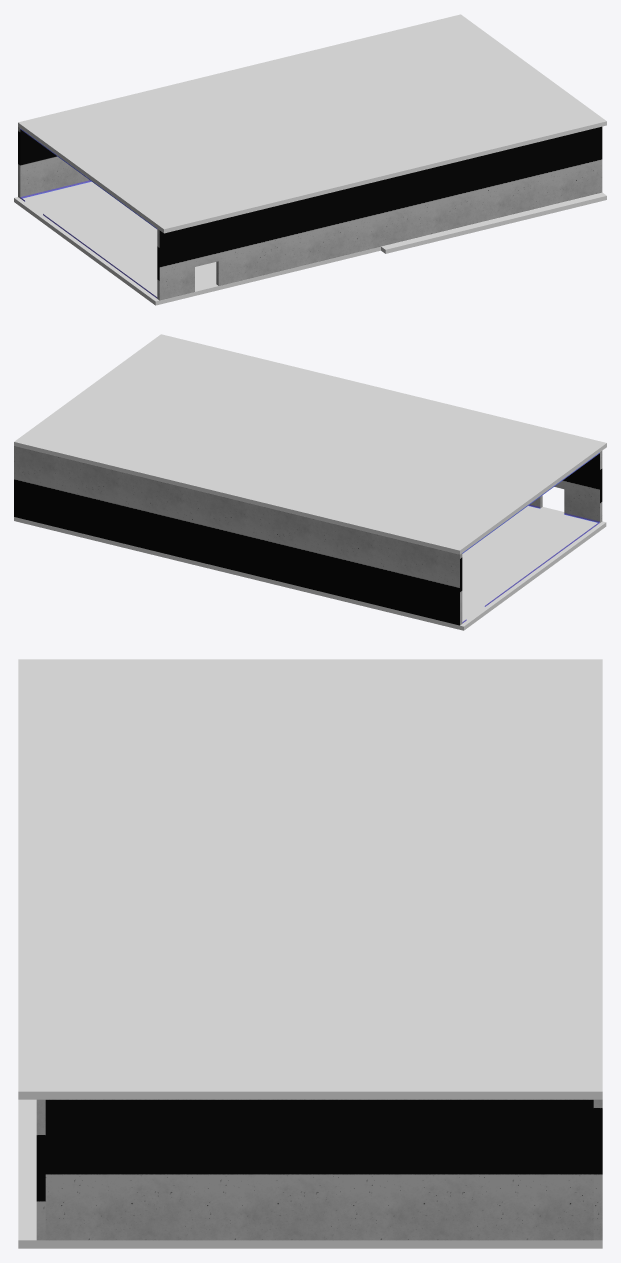
Rendered from SM_StorageRoomC.fbx.
The picture shows the model from 3 angles, top to bottom: view 1: azimuth 30°, elevation 25°; view 2: azimuth 150°, elevation 25°; view 3: azimuth 270°, elevation 25°; orthographic projection. The views are drawn at different scales.
Parts seen in each view (by area): view 1: SM_StorageRoomC_Roof_, SM_StorageRoomC_Roof_1, SM_TunnelEntrance_02, SM_StorageRoomC_Roof_2, Wall_1x4M_02, SM_StorageRoomC_Roof_3; view 2: SM_StorageRoomC_Roof_, SM_StorageRoomC_Roof_1, Wall_1x4M_02, SM_StorageRoomC_Roof_2, SM_TunnelEntrance_02, SM_StorageRoomC_Roof_3; view 3: SM_StorageRoomC_Roof_1, SM_StorageRoomC_Roof_, Wall_1x4M_03, SM_StorageRoomC_Roof_3, SM_TunnelEntrance_02, Wall_1x4M_02.
Part boxes in pixels (<box>): SM_StorageRoomC_Roof_: <box>18,68,385,233</box>; SM_StorageRoomC_Roof_1: <box>240,14,606,179</box>; SM_TunnelEntrance_02: <box>157,126,602,300</box>; SM_StorageRoomC_Roof_2: <box>14,181,380,305</box>; Wall_1x4M_02: <box>18,127,89,198</box>; SM_StorageRoomC_Roof_3: <box>381,192,606,253</box>; SM_StorageRoomC_Roof_: <box>237,388,606,554</box>; SM_StorageRoomC_Roof_1: <box>14,334,383,500</box>; Wall_1x4M_02: <box>14,446,462,625</box>; SM_StorageRoomC_Roof_2: <box>237,506,606,630</box>; SM_TunnelEntrance_02: <box>530,451,602,522</box>; SM_StorageRoomC_Roof_3: <box>14,517,236,575</box>; SM_StorageRoomC_Roof_1: <box>18,875,602,1099</box>; SM_StorageRoomC_Roof_: <box>18,659,602,875</box>; Wall_1x4M_03: <box>45,1099,593,1240</box>; SM_StorageRoomC_Roof_3: <box>18,1099,602,1248</box>; SM_TunnelEntrance_02: <box>36,1099,45,1240</box>; Wall_1x4M_02: <box>593,1099,602,1240</box>.
Bounding box in the file's own units: 2825 × 475 × 1600.
